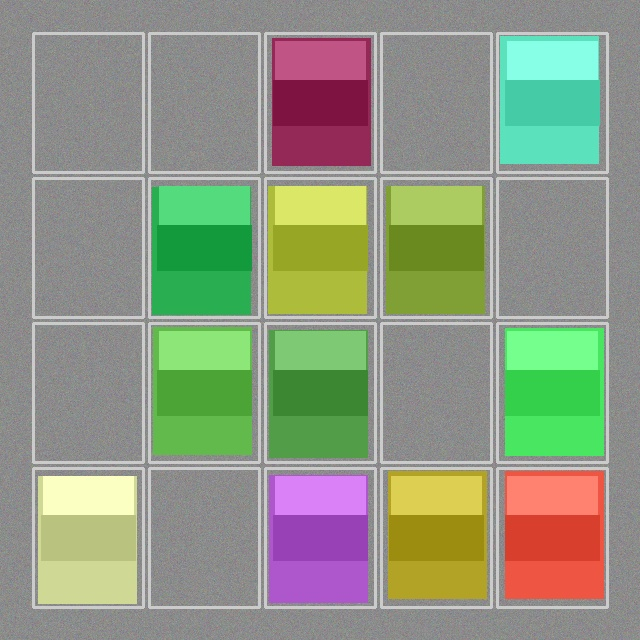space-empty: (35, 35, 141, 170), (151, 35, 257, 170), (383, 35, 489, 170), (35, 180, 141, 315), (499, 180, 605, 315), (35, 325, 141, 460), (383, 325, 489, 460), (151, 470, 257, 605)
space-occupied: (267, 35, 373, 170), (499, 35, 605, 170), (151, 180, 257, 315), (267, 180, 373, 315), (383, 180, 489, 315), (151, 325, 257, 460), (267, 325, 373, 460), (499, 325, 605, 460), (35, 470, 141, 605), (267, 470, 373, 605), (383, 470, 489, 605), (499, 470, 605, 605)
